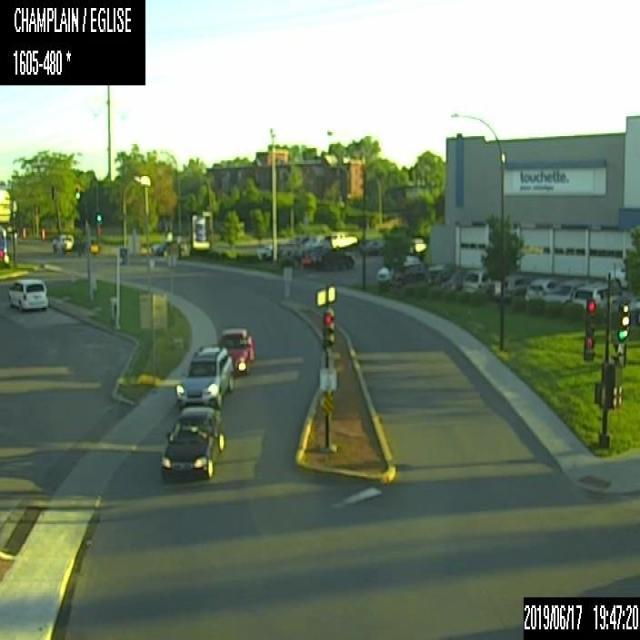vehicle: (159, 403, 225, 480), (176, 342, 233, 411), (217, 327, 254, 373), (572, 280, 623, 308), (8, 277, 48, 311), (376, 254, 418, 282), (544, 277, 588, 302), (423, 262, 462, 290), (312, 248, 354, 268), (462, 266, 494, 292), (525, 275, 557, 300), (323, 230, 357, 250), (503, 275, 531, 298), (52, 232, 74, 253), (152, 240, 182, 255), (300, 246, 322, 265), (258, 242, 282, 259), (360, 238, 382, 254), (291, 247, 312, 263), (278, 246, 298, 262), (629, 295, 639, 324), (408, 236, 426, 252), (304, 233, 323, 246), (288, 235, 308, 245)
